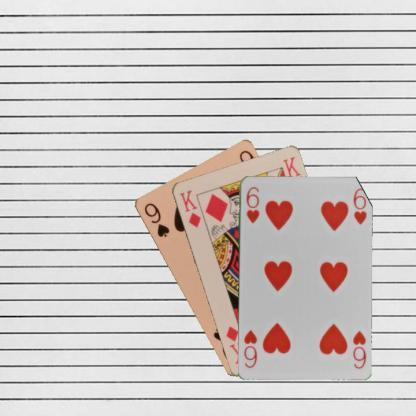6h: (349, 327, 367, 370), (243, 184, 260, 224)
9s: (140, 200, 170, 238)
Kd: (176, 187, 202, 229)
